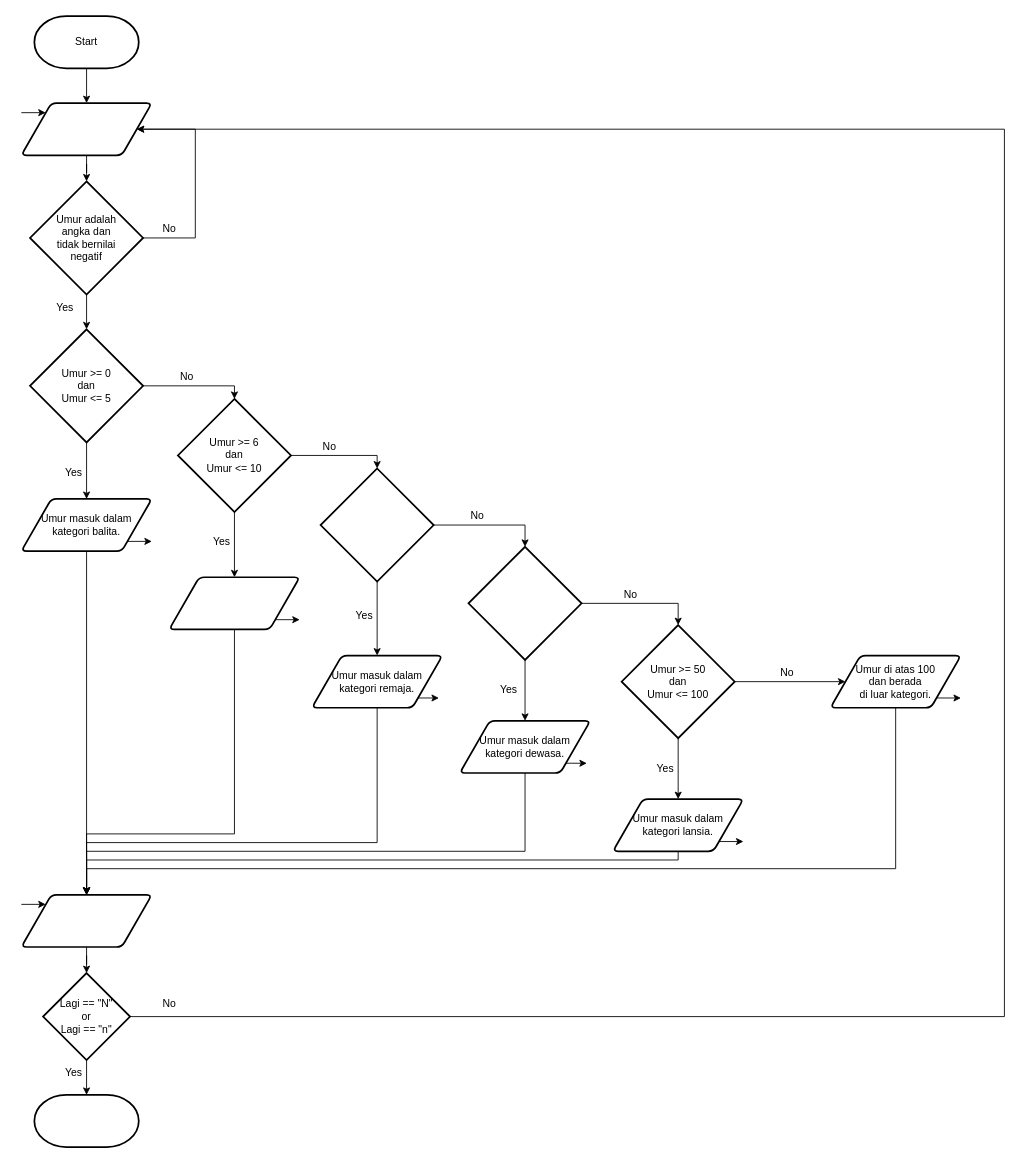
Image size: 1027x1162. Some labels were removed from this diagram. The shapes that lost their labels are listed below. From the top down, each one's centre as x and y in pixels, then its label:
[86,129]: Masukkan Umur
[376,524]: Umur >= 11 dan Umur <= 17
[234,603]: Umur masuk dalam kategori anak-anak.
[524,602]: Umur >= 18 dan Umur <= 49
[86,920]: Lagi? [Y/N]
[86,1121]: End
